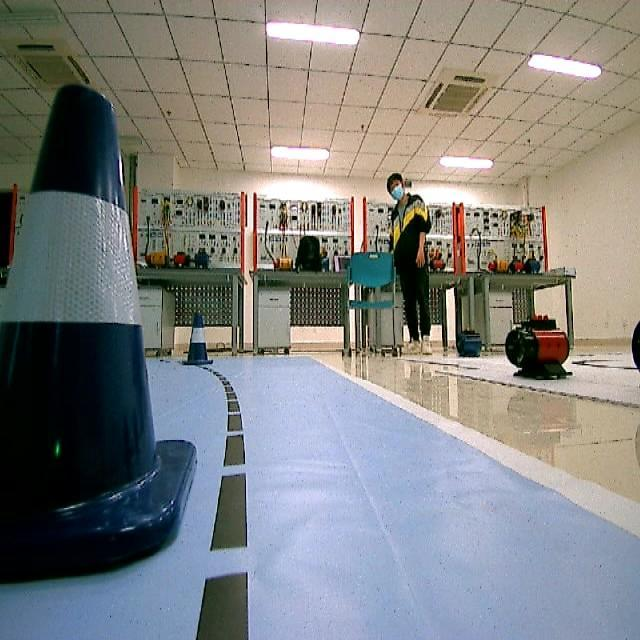obstacle: (0, 52, 191, 604), (180, 310, 224, 370)
